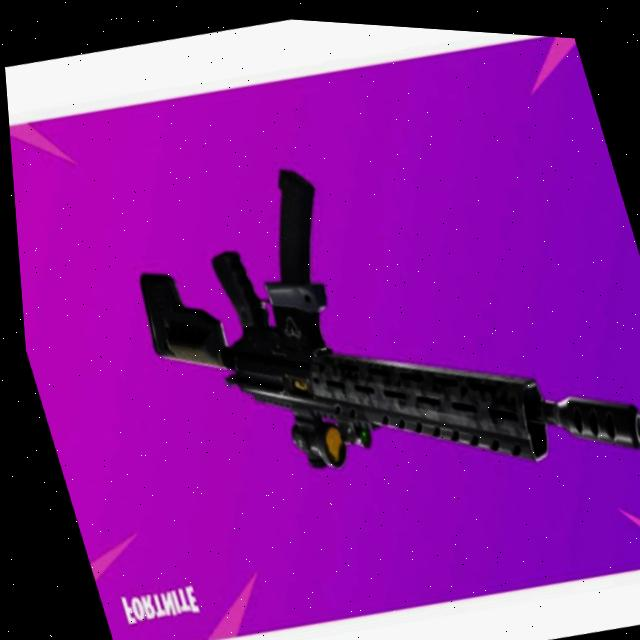firearm: (96, 89, 640, 546)
